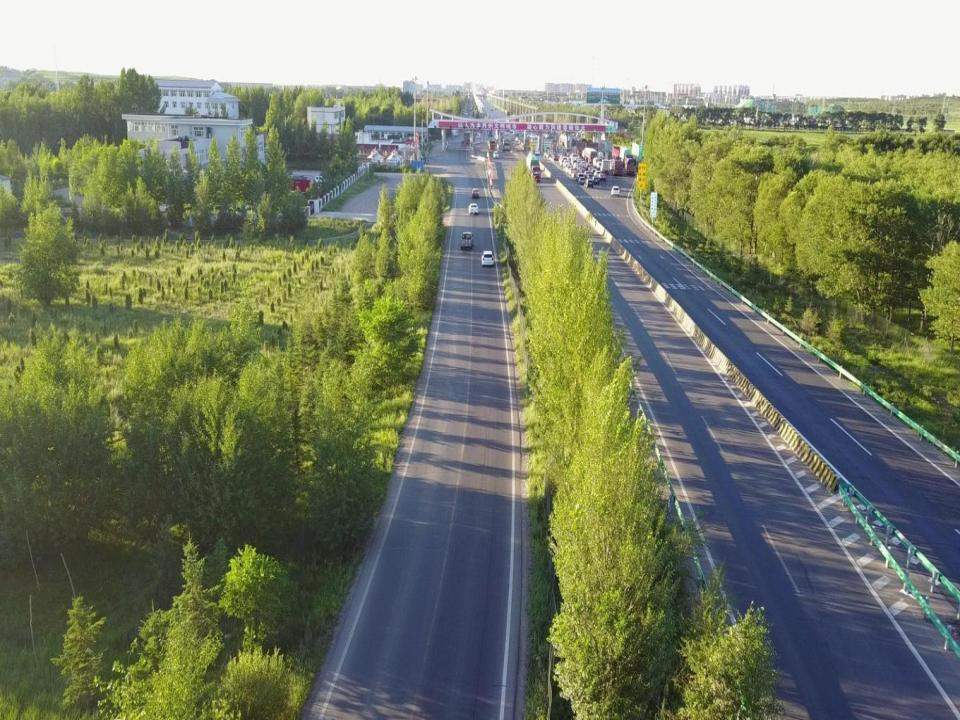car: (481, 250, 494, 268), (468, 202, 478, 216), (611, 185, 619, 197), (584, 179, 594, 188), (472, 188, 480, 197), (598, 173, 606, 182), (592, 177, 600, 184), (493, 151, 499, 158)
truck: (526, 154, 541, 182), (624, 154, 635, 175), (612, 157, 622, 176), (600, 160, 610, 175)
van: (461, 231, 472, 250), (503, 138, 510, 150)
